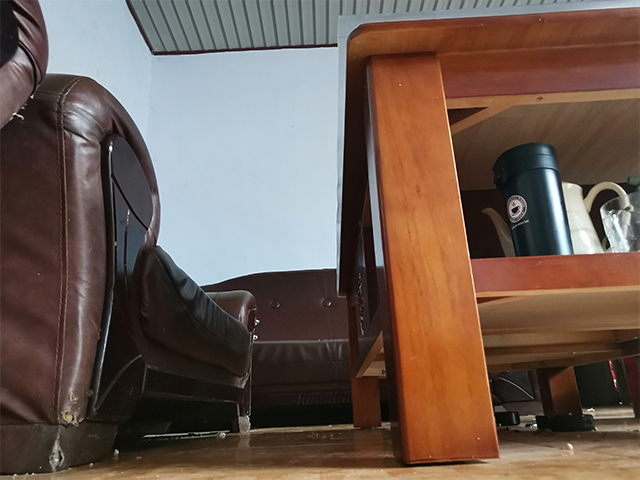sofa: (1, 8, 382, 470)
table: (333, 2, 640, 468)
